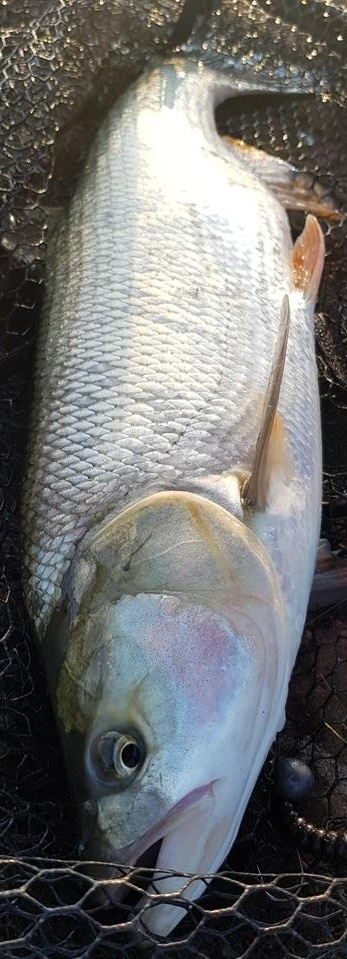Aspius aspius: (20, 1, 327, 939)
